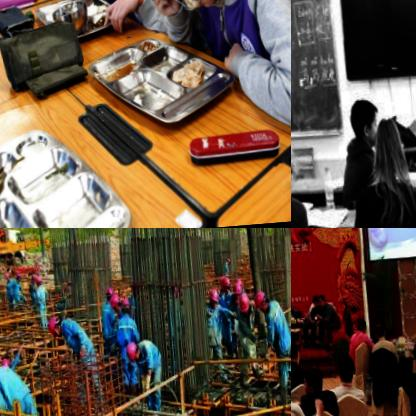head: (366, 116, 406, 176), (343, 97, 378, 153), (292, 367, 318, 400), (325, 355, 349, 388), (402, 341, 416, 373), (348, 319, 362, 340), (367, 327, 382, 345), (312, 296, 322, 312), (291, 341, 296, 373), (305, 300, 315, 313)
helmet: (42, 313, 61, 342), (119, 342, 138, 365), (202, 290, 217, 316), (231, 296, 247, 320), (249, 293, 265, 316), (105, 294, 119, 317)
